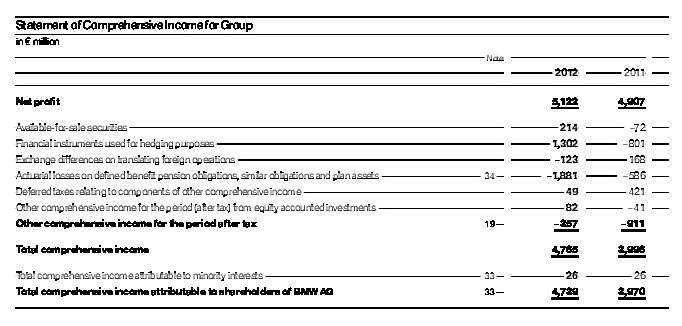table: (0, 0, 682, 326)
